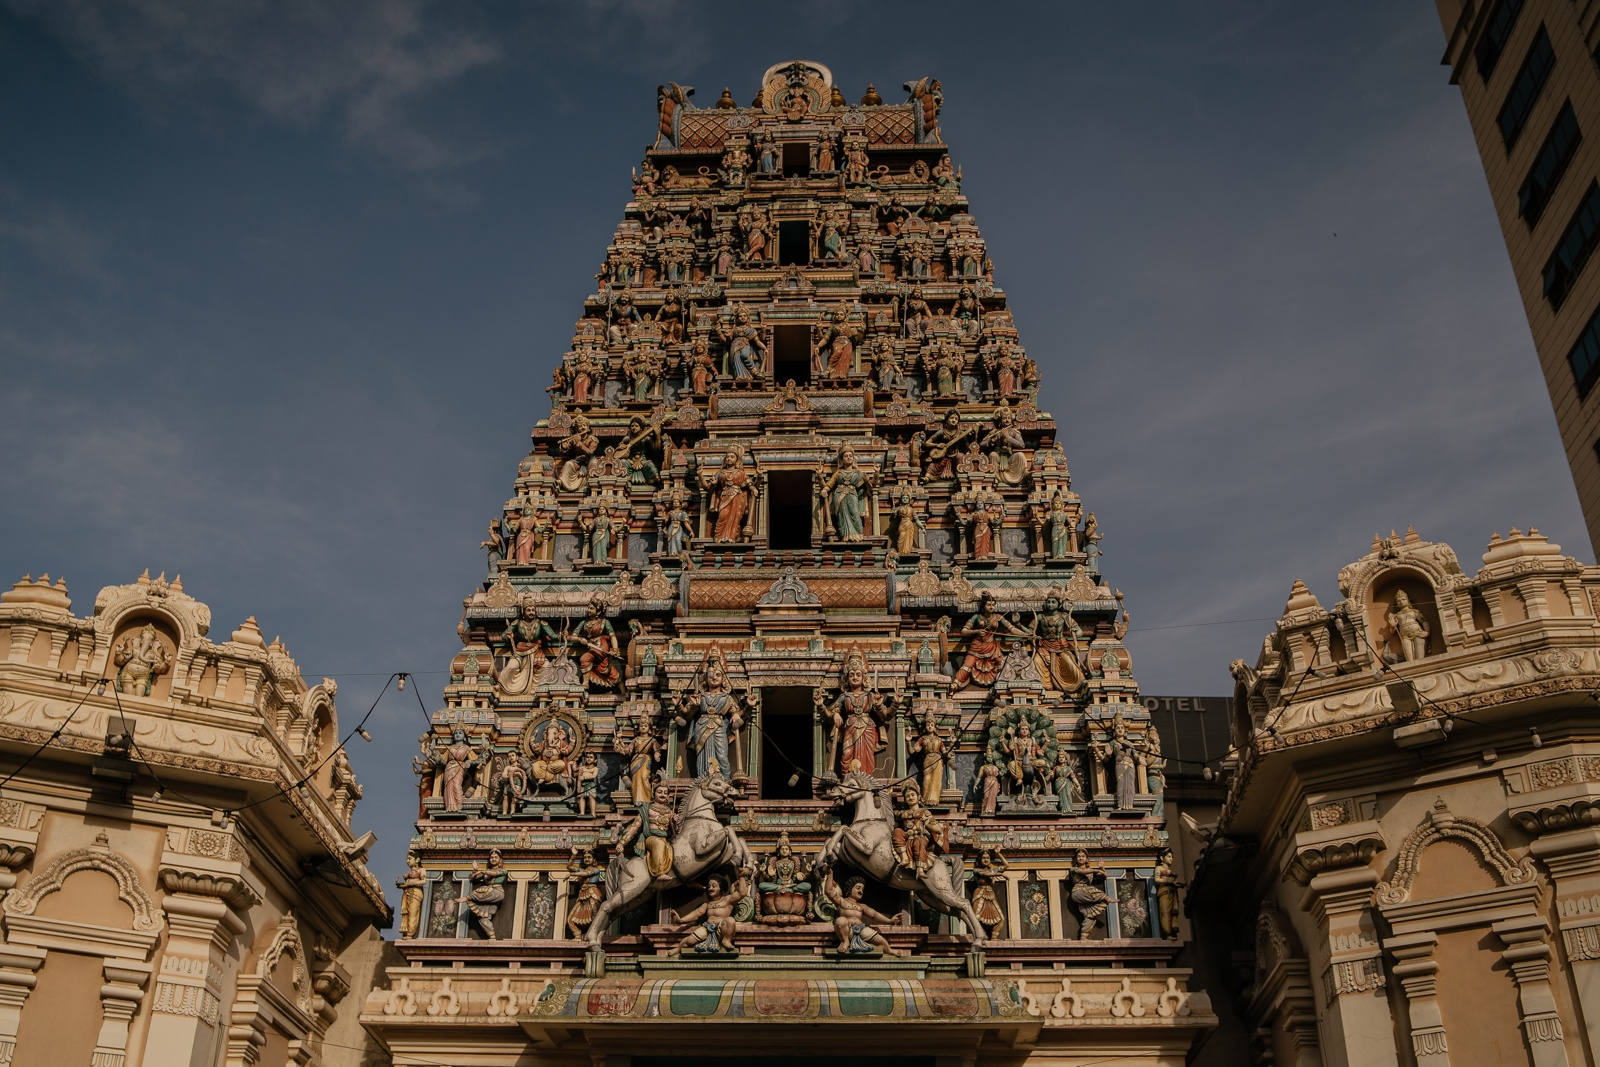Hindu Temple: (511, 54, 1151, 1017)
